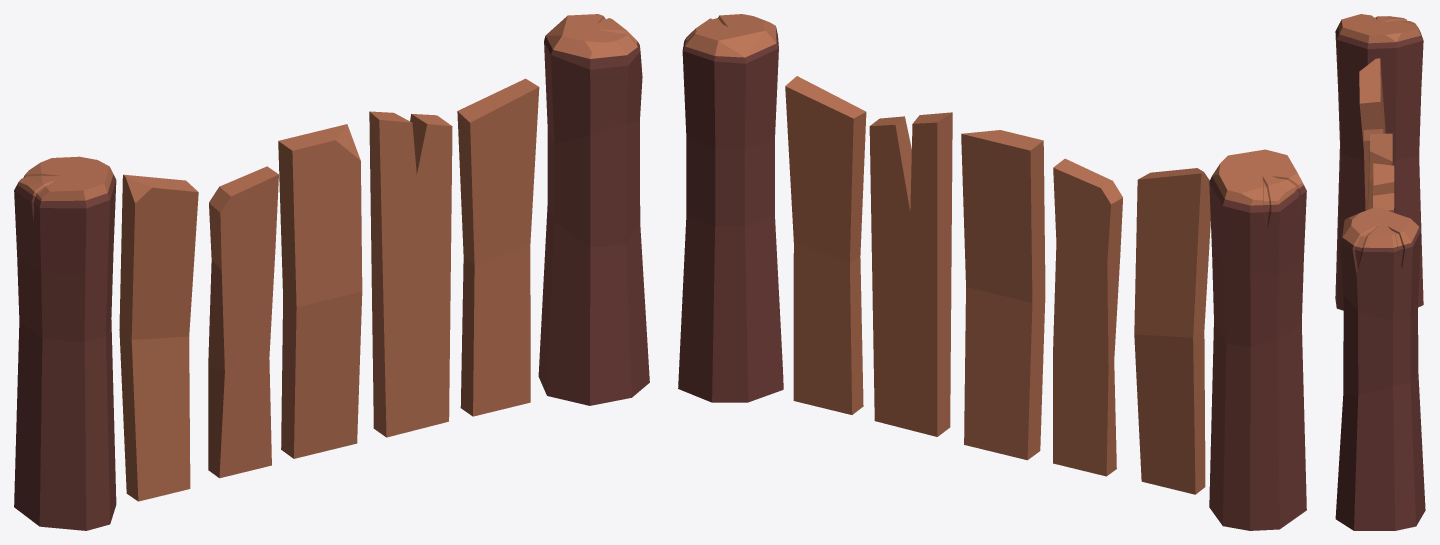
Rendered from Fence Wooden Blunt 10.fbx.
3 views of the same model, side by side, from view 1: azimuth 30°, elevation 25°; view 2: azimuth 150°, elevation 25°; view 3: azimuth 270°, elevation 25° (orthographic). The views are drawn at different scales.
Visible parts, largest first — view 1: Wooden Pole Blunt 10; view 2: Wooden Pole Blunt 10; view 3: Wooden Pole Blunt 10.
Boxes of the visible parts, box(x1,y1,x2,y2) form: Wooden Pole Blunt 10: box(14, 14, 649, 530); Wooden Pole Blunt 10: box(678, 14, 1306, 530); Wooden Pole Blunt 10: box(1335, 14, 1425, 530).
Bounding box in the file's own units: 199 × 111 × 30.93.
